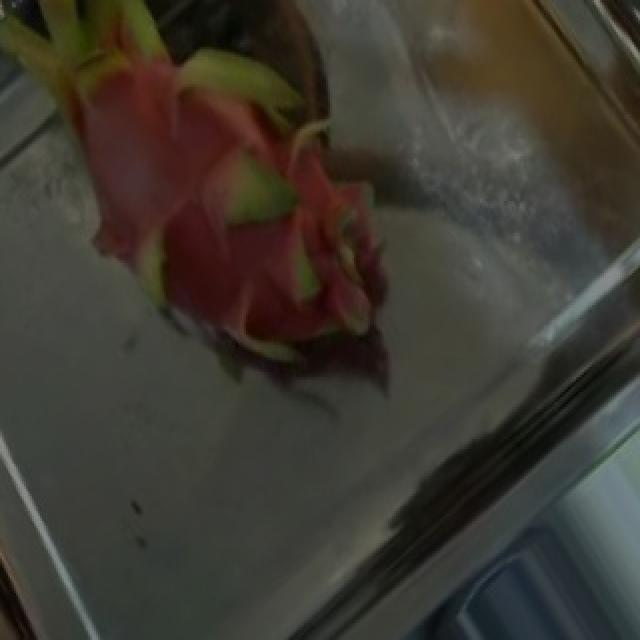fruit: (2, 0, 424, 429)
